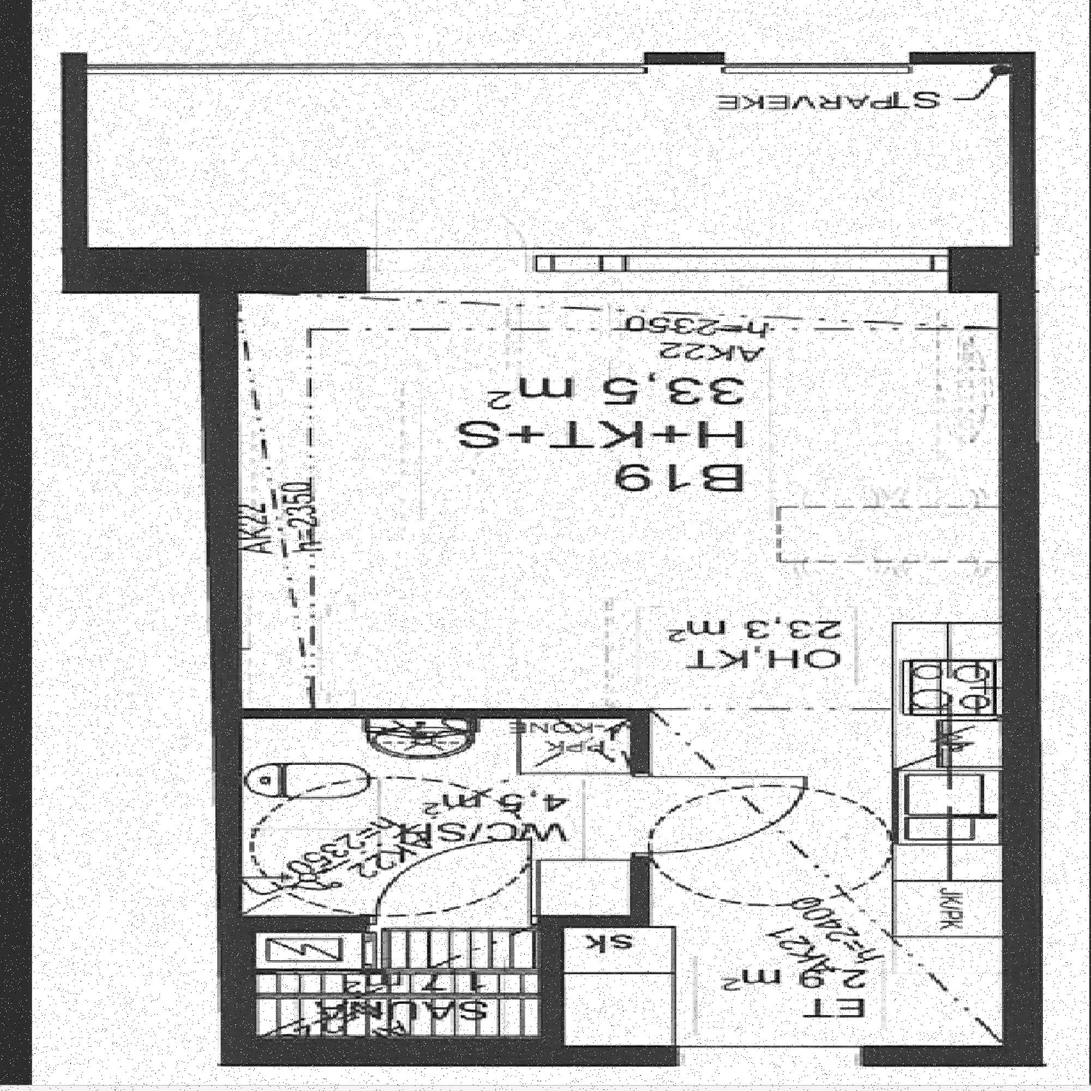wall: (238, 249, 1035, 292), (999, 249, 1035, 1066), (214, 249, 241, 917), (540, 1046, 1035, 1066), (218, 1037, 540, 1066), (64, 249, 239, 292), (1012, 51, 1035, 292), (218, 917, 255, 1066), (64, 54, 85, 292), (217, 708, 651, 719), (631, 709, 652, 928), (540, 917, 563, 1066), (218, 917, 369, 933), (912, 51, 1035, 64), (368, 917, 562, 925), (540, 917, 652, 928), (645, 51, 725, 64)
